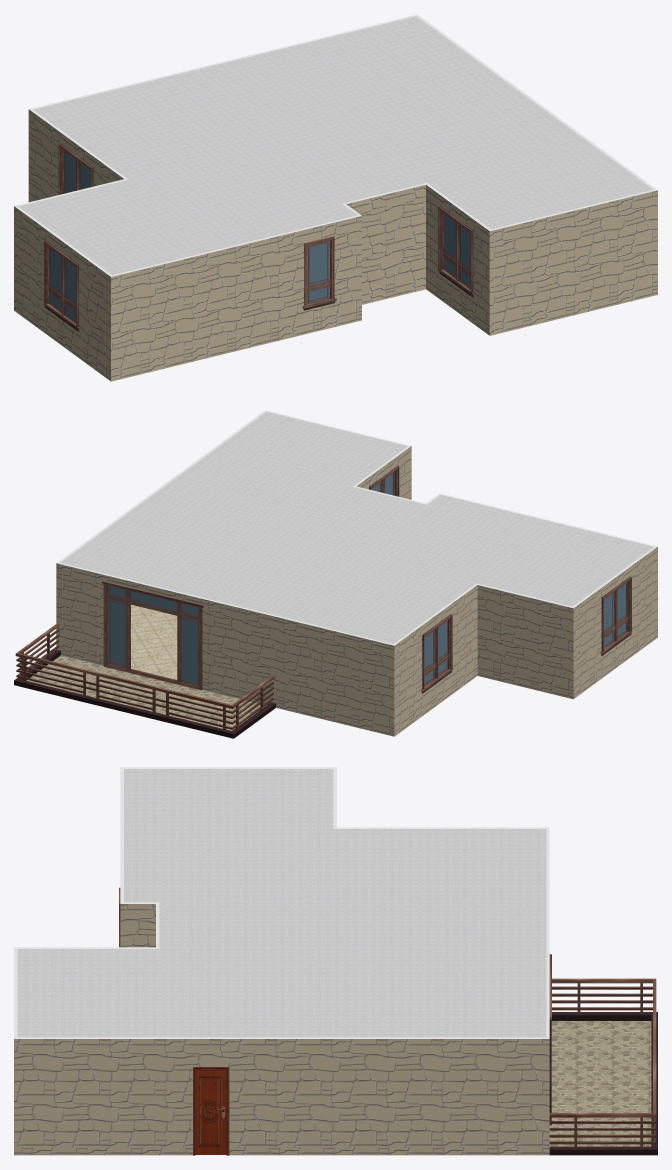
Rendered from house_0110400.FBX.
The picture shows the model from 3 angles, top to bottom: view 1: azimuth 30°, elevation 25°; view 2: azimuth 150°, elevation 25°; view 3: azimuth 270°, elevation 25°; orthographic projection. The views are drawn at different scales.
Visible parts, largest first — view 1: house_0110400_roof_100_00, house_0110400_outwall_100_05, house_0110400_outwall_100_09, house_0110400_outwall_100_04, house_0110400_outwall_100_07, house_0110400_outwall_100_08, house_0110400_outwall_100_02, house_0110400_floor_105_00, house_0110400_floor_103_00, house_0110400_floor_104_00, 00002002_tcx_100_05, 00002002_tcx_100_09 (+5 smaller); view 2: house_0110400_roof_100_00, house_0110400_outwall_100_01, house_0110400_floor_100_00, house_0110400_outwall_100_03, house_0110400_outwall_101_01, house_0110400_outwall_100_04, house_0110400_outwall_100_02, house_0110400_floor_101_00, house_0110400_floor_103_00, house_0110400_floor_102_00, 00002002_tcx_100_01, house_0110400_outwall_100_08 (+6 smaller); view 3: house_0110400_roof_100_00, house_0110400_outwall_100_00, house_0110400_floor_100_00, 00002002_tcx_100_00, house_0110400_outwall_101_00, house_0110400_outwall_100_06, house_0110400_outedge_100_00, 00002002_outedge_100_01.
Boxes of the visible parts, x1,y1,x2,y2 form: house_0110400_roof_100_00: [18, 16, 653, 275]; house_0110400_outwall_100_05: [111, 216, 361, 374]; house_0110400_outwall_100_09: [489, 190, 657, 328]; house_0110400_outwall_100_04: [14, 206, 110, 373]; house_0110400_outwall_100_07: [346, 185, 425, 297]; house_0110400_outwall_100_08: [426, 185, 489, 328]; house_0110400_outwall_100_02: [28, 109, 123, 202]; house_0110400_floor_105_00: [438, 206, 474, 297]; house_0110400_floor_103_00: [43, 240, 79, 331]; house_0110400_floor_104_00: [302, 236, 336, 310]; 00002002_tcx_100_05: [111, 313, 361, 381]; 00002002_tcx_100_09: [489, 287, 657, 335]; house_0110400_roof_100_00: [60, 412, 653, 643]; house_0110400_outwall_100_01: [56, 563, 394, 730]; house_0110400_floor_100_00: [14, 623, 275, 738]; house_0110400_outwall_100_03: [477, 585, 573, 692]; house_0110400_outwall_101_01: [102, 581, 203, 690]; house_0110400_outwall_100_04: [573, 547, 657, 692]; house_0110400_outwall_100_02: [394, 585, 477, 730]; house_0110400_floor_101_00: [131, 604, 177, 679]; house_0110400_floor_103_00: [600, 576, 632, 655]; house_0110400_floor_102_00: [421, 614, 452, 693]; 00002002_tcx_100_01: [56, 648, 394, 736]; house_0110400_outwall_100_08: [356, 446, 411, 499]; house_0110400_roof_100_00: [17, 769, 546, 1037]; house_0110400_outwall_100_00: [14, 1039, 549, 1147]; house_0110400_floor_100_00: [549, 978, 657, 1155]; 00002002_tcx_100_00: [14, 1147, 549, 1155]; house_0110400_outwall_101_00: [193, 1067, 229, 1155]; house_0110400_outwall_100_06: [120, 904, 155, 947]; house_0110400_outedge_100_00: [14, 1037, 549, 1038]; 00002002_outedge_100_01: [546, 827, 549, 1038].
Bounding box in the file's own units: 1455 × 290 × 1452.
56 materials, 55 textured.
